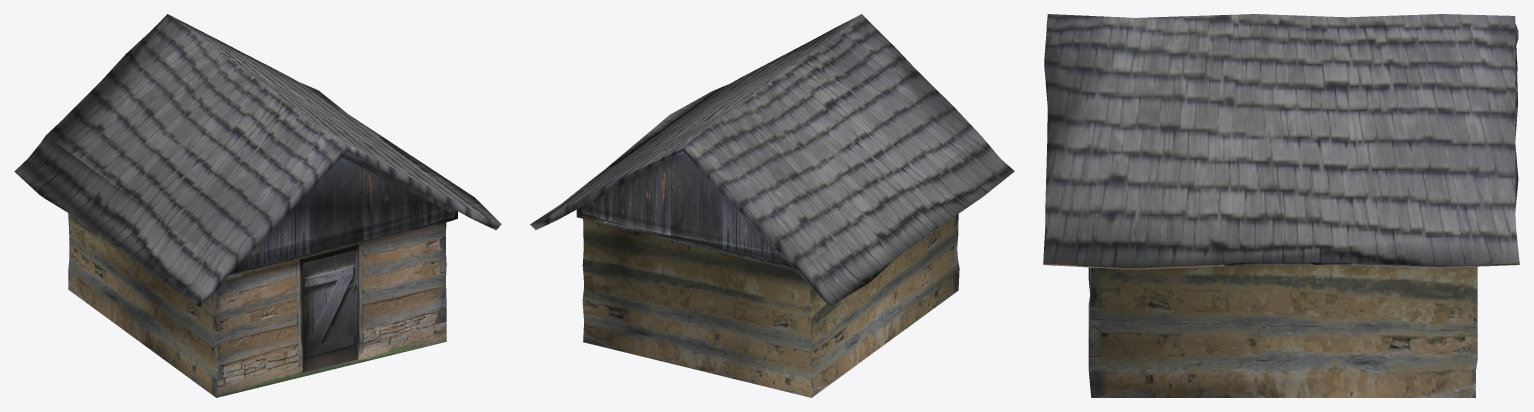
The model's file is hut1.fbx.
3 views of the same model, side by side, from view 1: azimuth 30°, elevation 25°; view 2: azimuth 150°, elevation 25°; view 3: azimuth 270°, elevation 25° (orthographic). The views are drawn at different scales.
Visible parts, largest first — view 1: U3DMesh; view 2: U3DMesh; view 3: U3DMesh.
Part boxes in pixels (x1,y1,x2,y2): U3DMesh: (14, 14, 501, 397); U3DMesh: (530, 14, 1014, 397); U3DMesh: (1043, 14, 1519, 397).
Bounding box in the file's own units: 13.47 × 9.64 × 13.4.
1 material, 1 textured.
